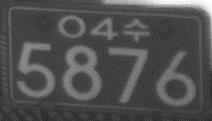0: (57, 14, 86, 39)
4: (90, 15, 119, 41)
5: (16, 41, 56, 98)
6: (155, 48, 197, 108)
7: (107, 45, 149, 104)
8: (60, 43, 103, 101)
수: (121, 17, 150, 42)
